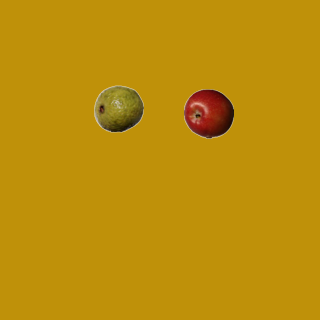Apple Braeburn: (183, 88, 233, 138)
Guava: (93, 83, 143, 133)
